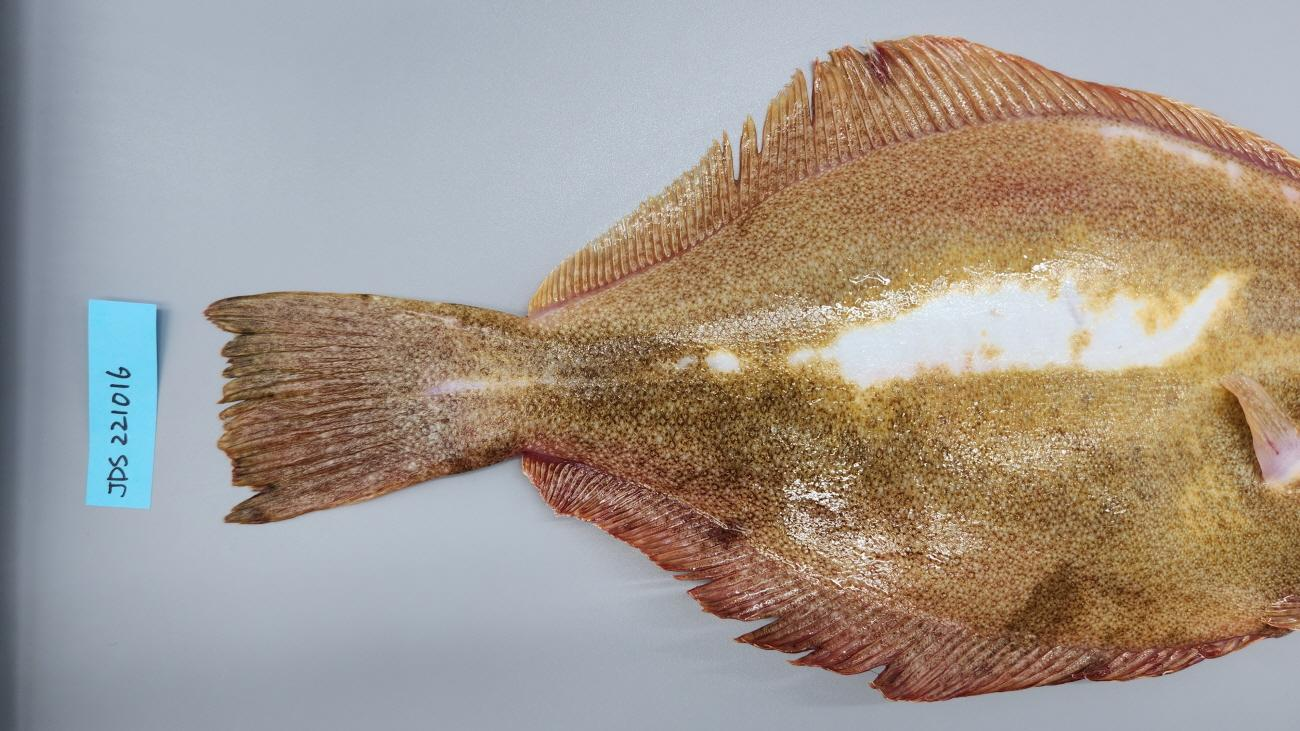POOUN: (202, 34, 1300, 702)
